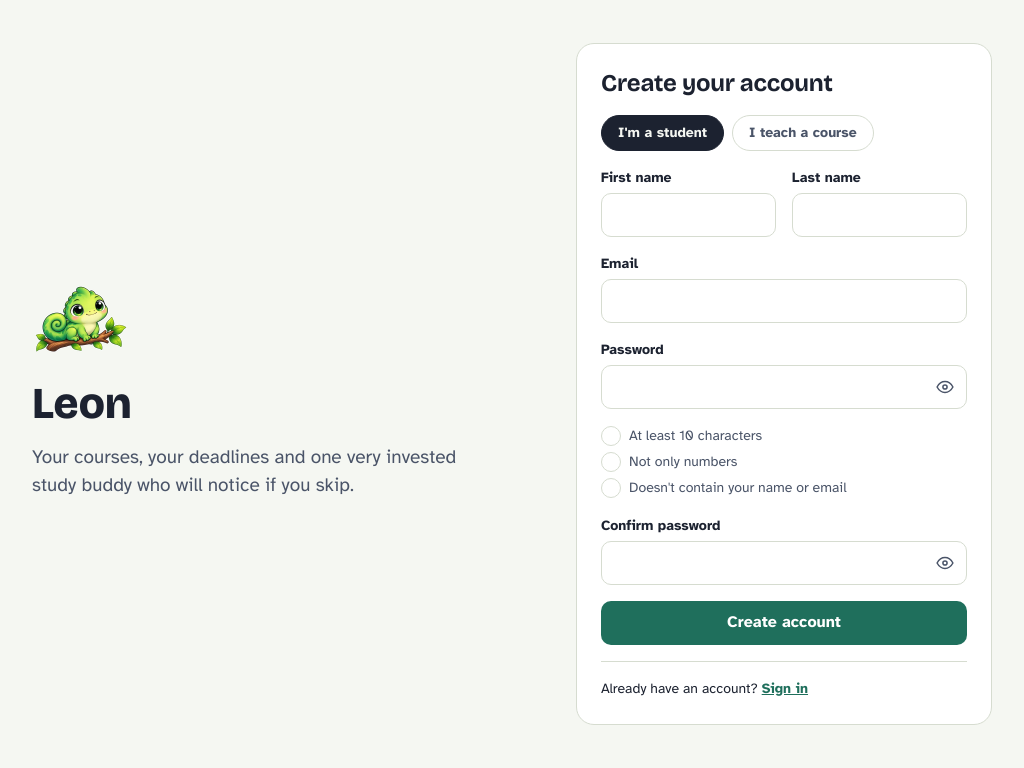
Test: SignupPage › shows a taken email next to the field and keeps the input
Type "Nia" into the field labelled "First name".
click(688, 215); type("Nia")  # box [601,193,776,237]
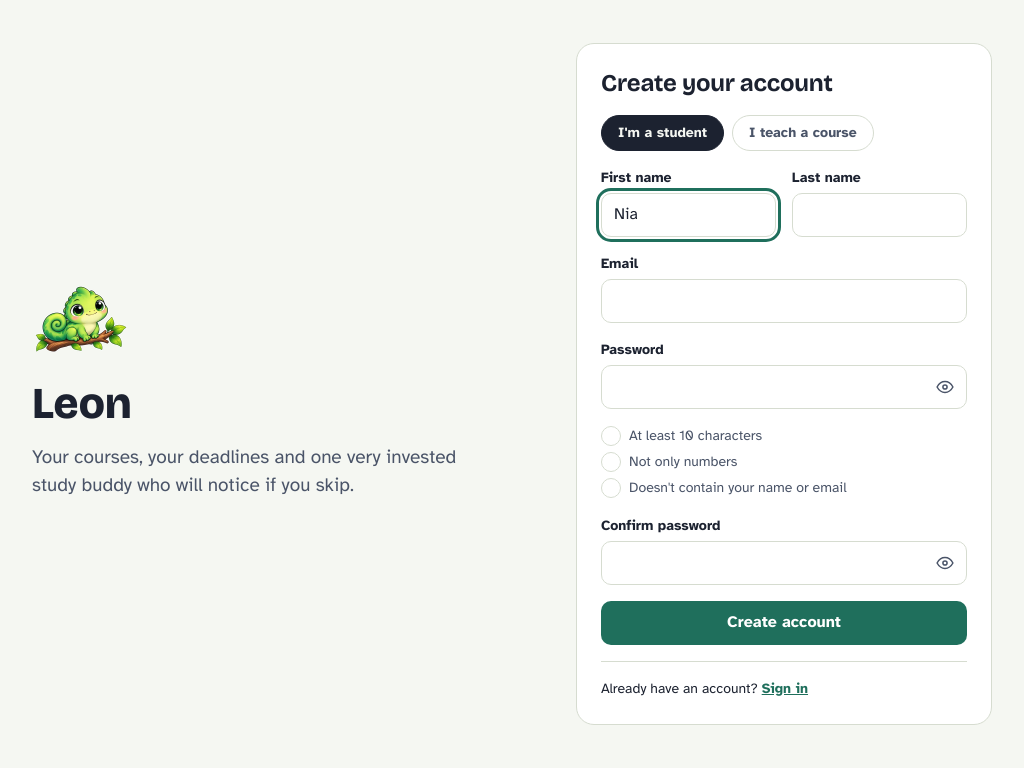
Type "Okoro" into the field labelled "Last name".
click(880, 215); type("Okoro")  # box [792,193,967,237]
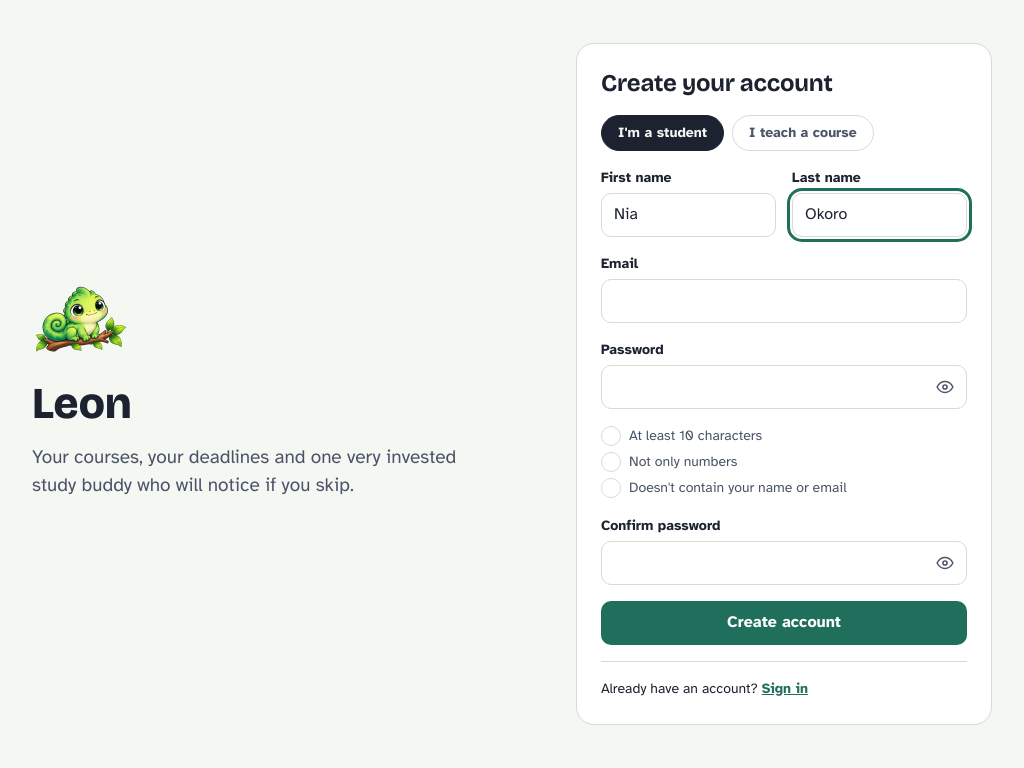
Type "MAYA@pulse.test" into the field labelled "Email".
click(784, 301); type("MAYA@pulse.test")  # box [601,279,967,323]
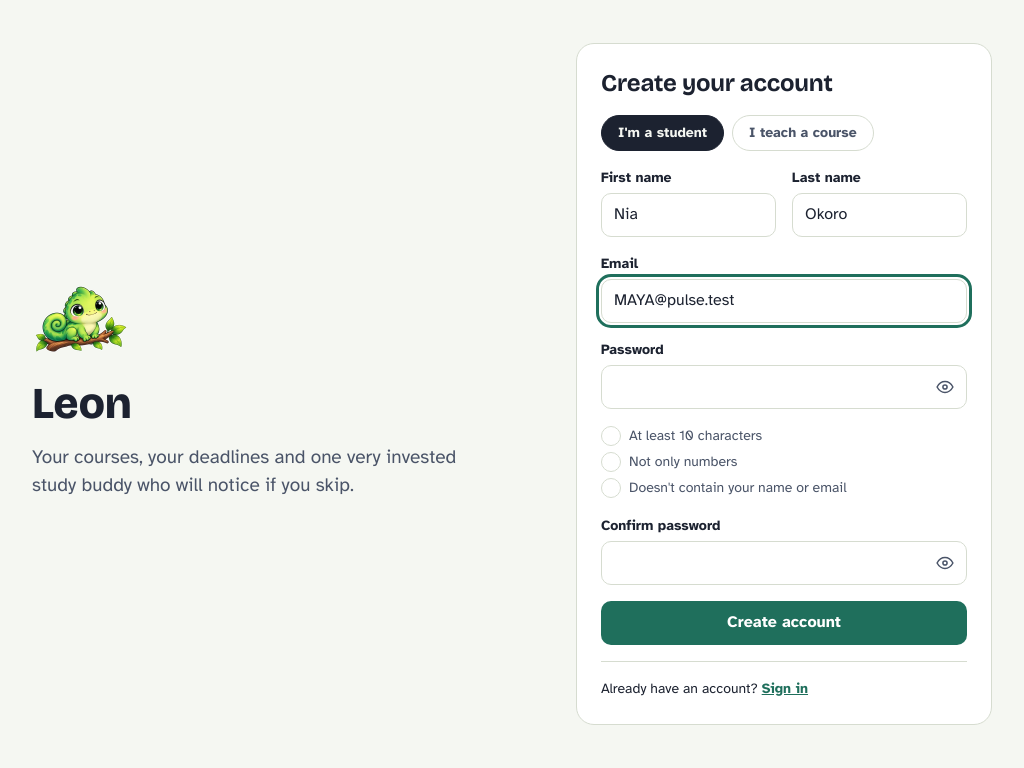
Type "maple-river-lantern" into the password field labelled "Password".
click(784, 387); type("maple-river-lantern")  # box [601,365,967,409]
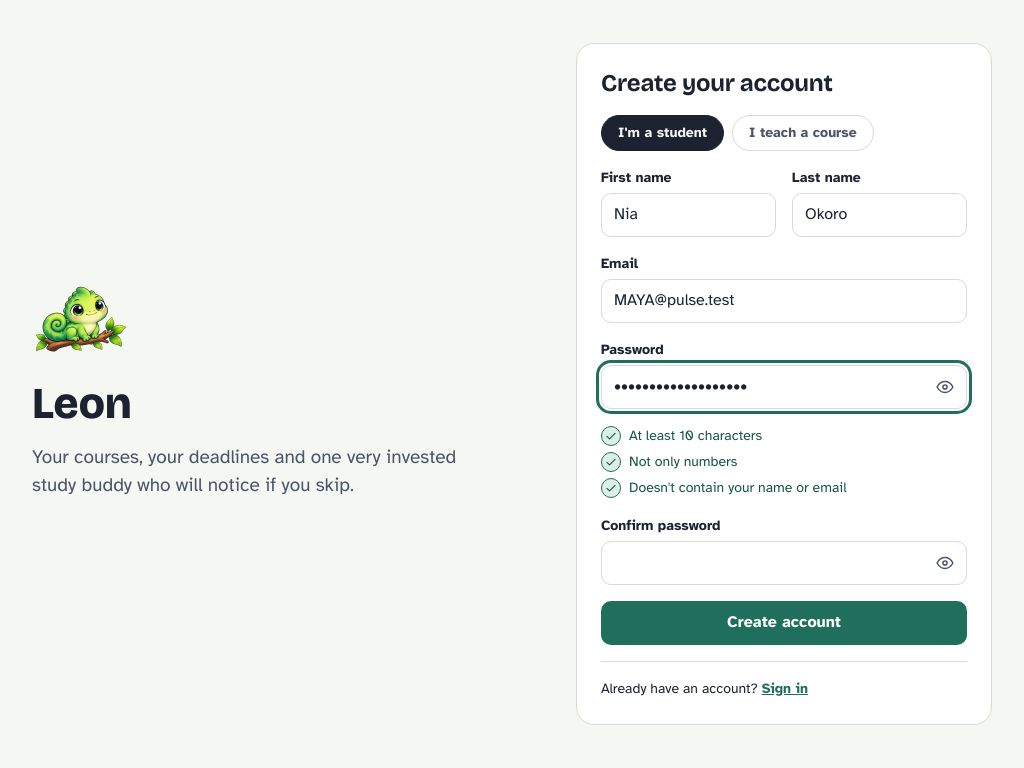
Type "maple-river-lantern" into the password field labelled "Confirm password".
click(784, 563); type("maple-river-lantern")  # box [601,541,967,585]
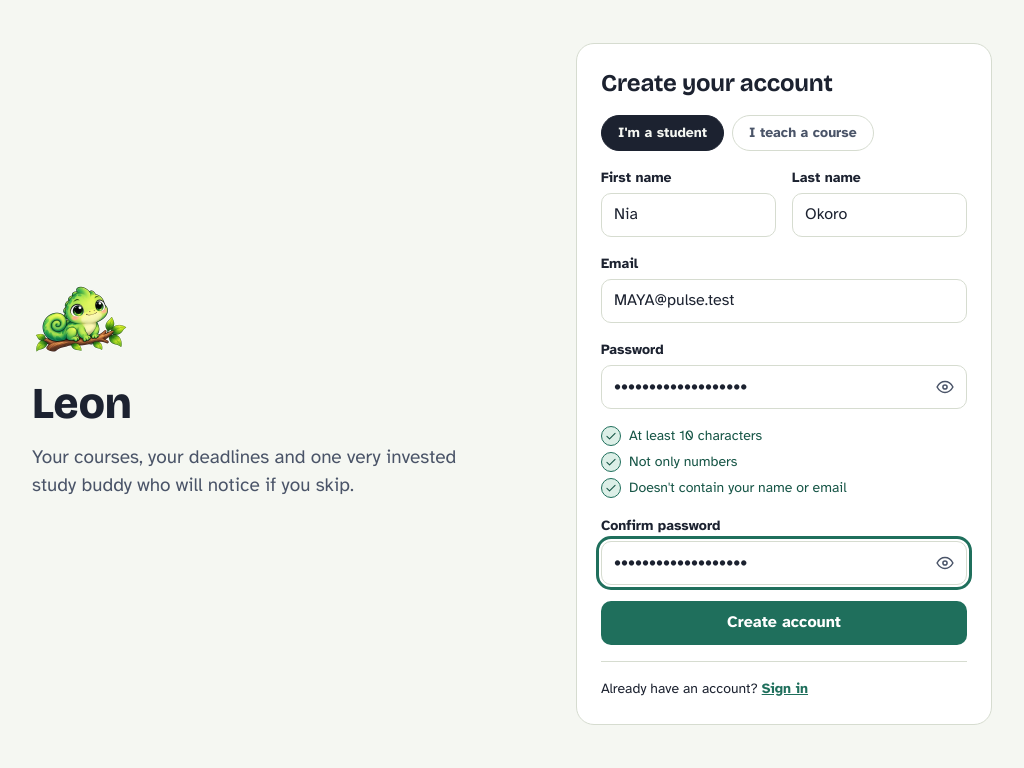
Double-click the button "Create account".
double_click(784, 623)  # box [601,601,967,645]
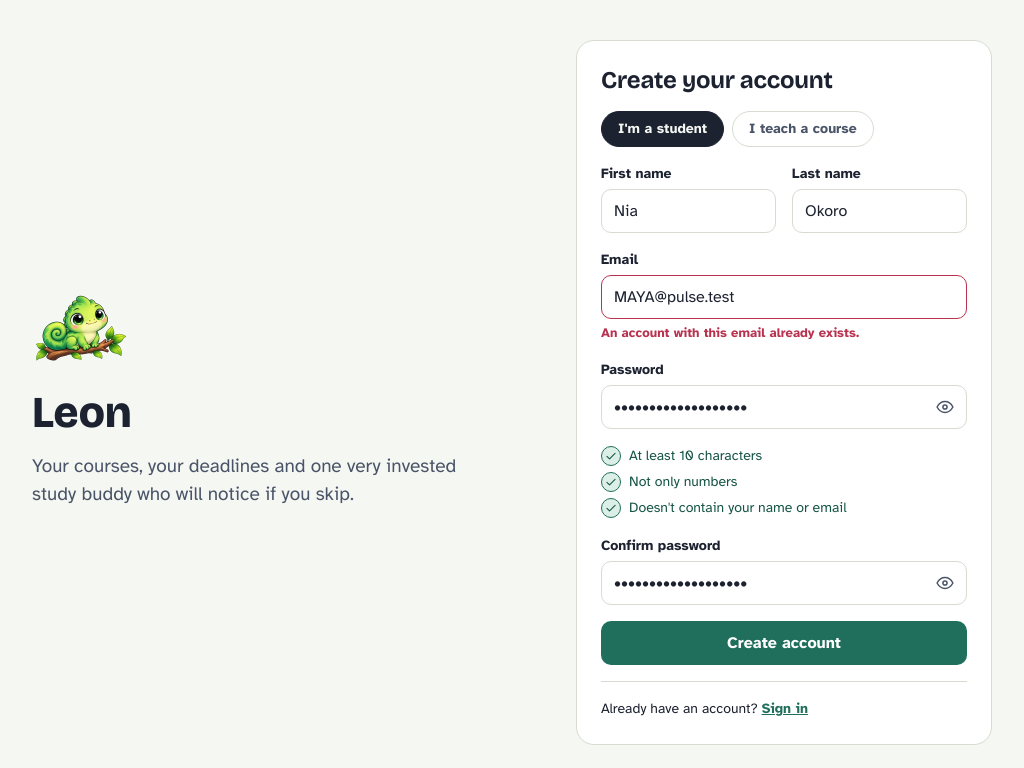
Now the text "An account with this email already exists." is shown, box [601,325,859,341]
